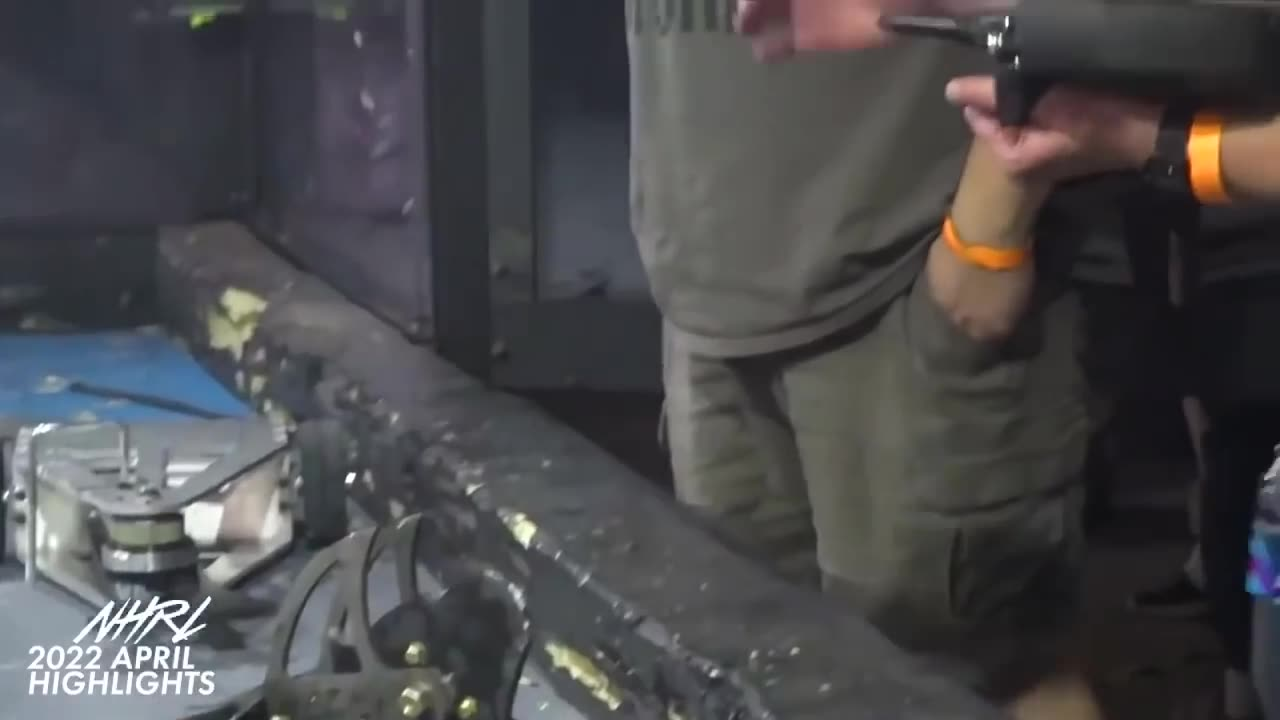combatbot: (2, 412, 353, 651), (172, 511, 531, 720)
